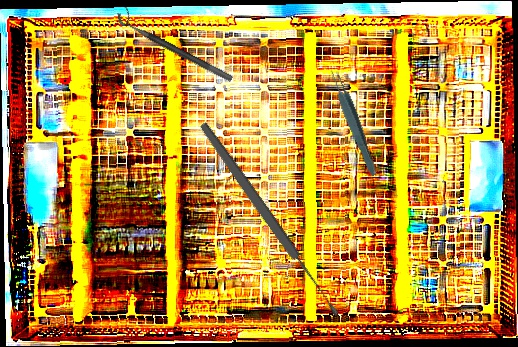Fixation Ring: (113, 5, 239, 83)
Surgical Spoon: (196, 119, 343, 320)
Tissue Forceps: (327, 66, 381, 178)
